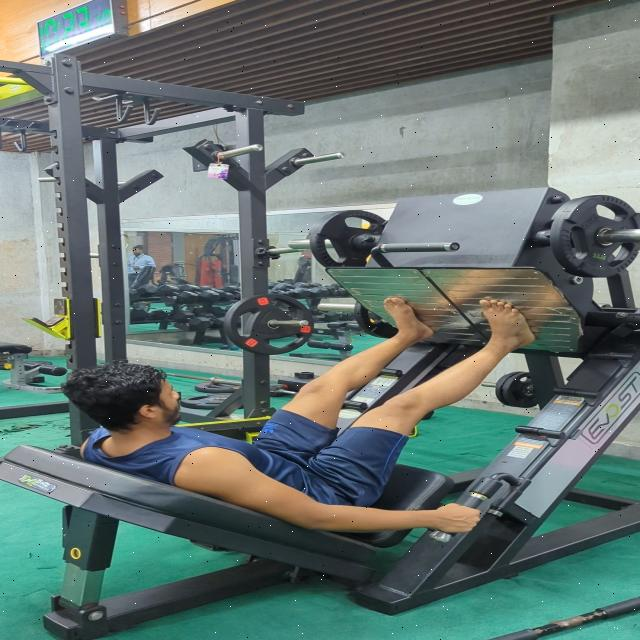Normal_LegPress: (53, 287, 554, 548)
